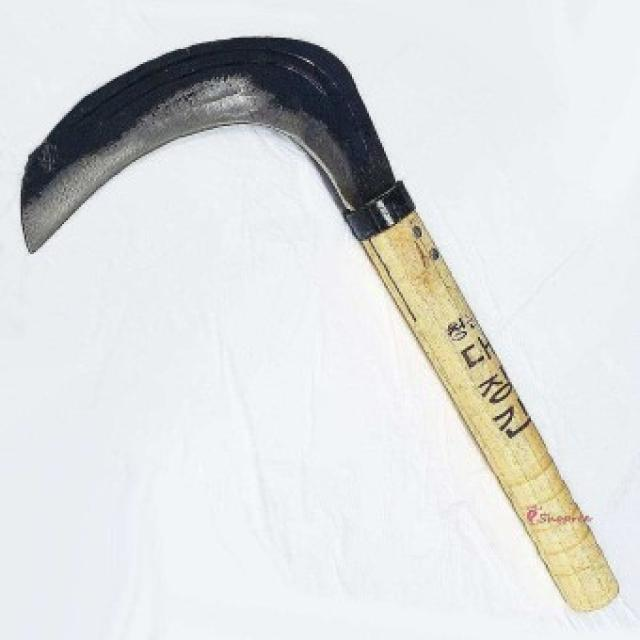sickle: (42, 26, 625, 629)
